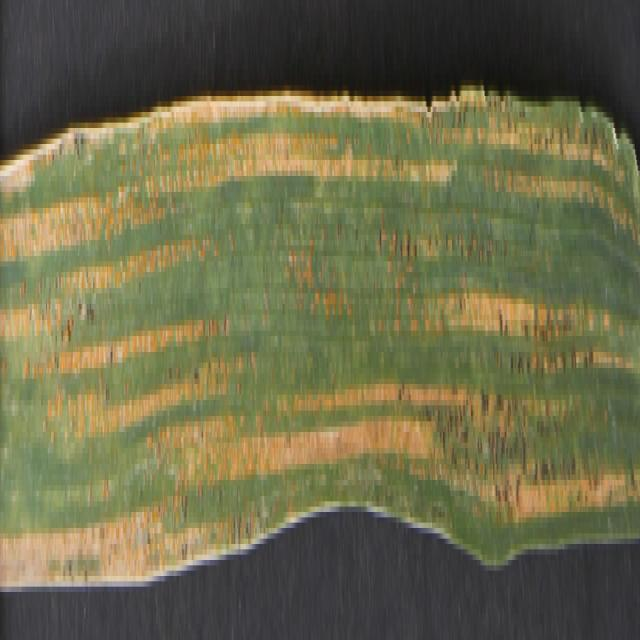leaf rust: (1, 96, 639, 581)
